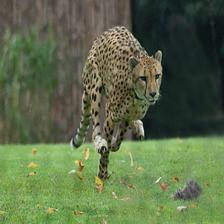Cheetah: (68, 29, 163, 182)
